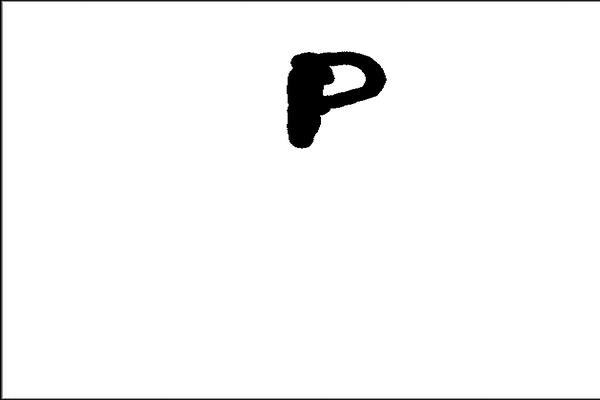P: (278, 46, 395, 154)
